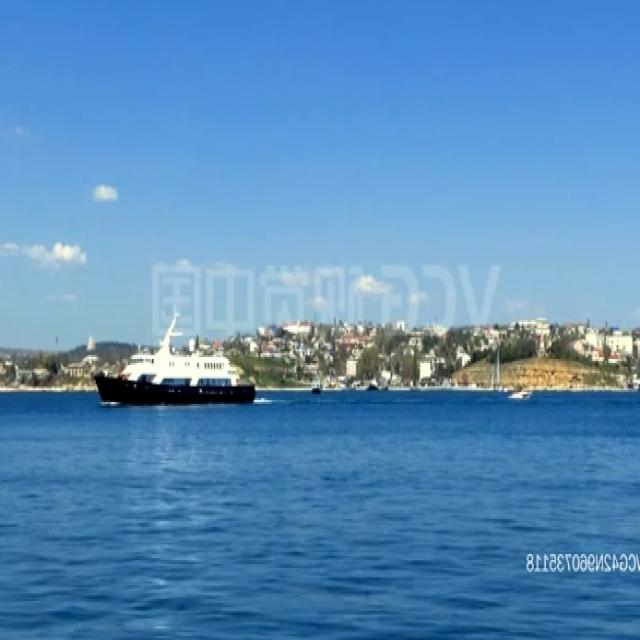passenger ship: (92, 325, 254, 409)
